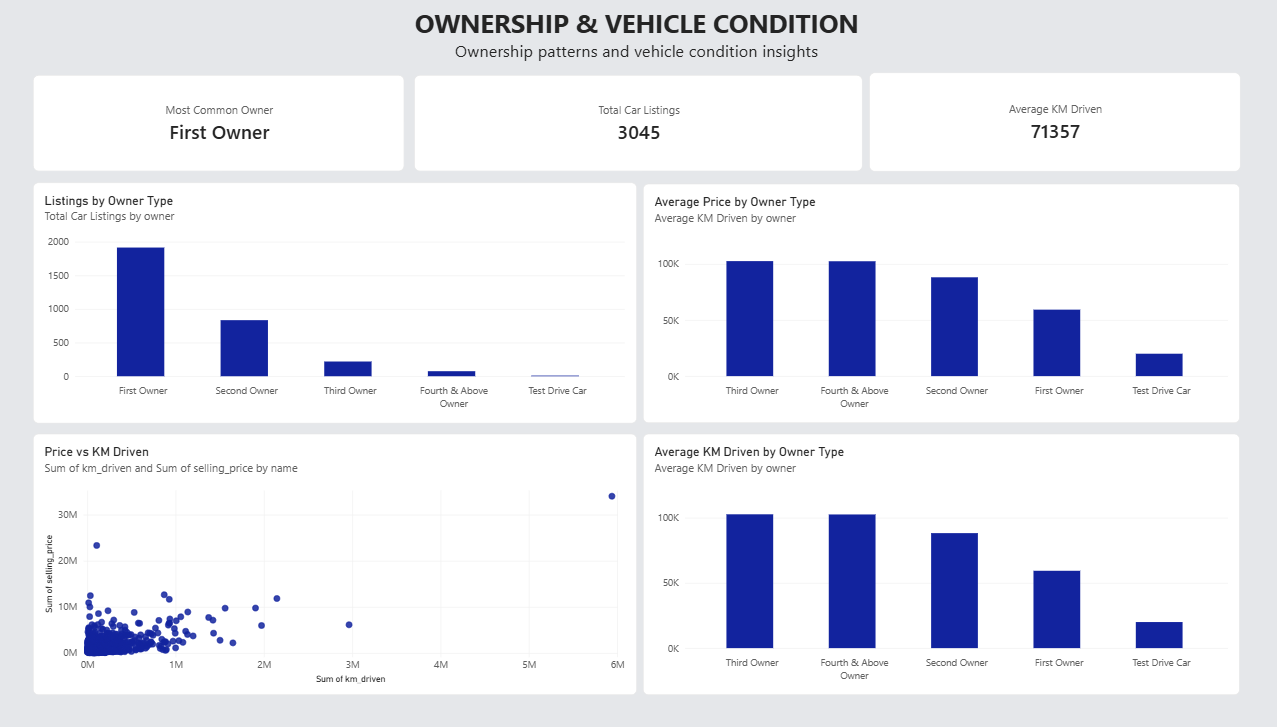

The dashboard page shown, as its layout file describes it:
{"tool":"powerbi","page":{"name":"Ownership & Vehicle Condition Analysis","canvas":[1920,1080],"ordinal":3},"visuals":[{"type":"textbox","box":[80,14,1756,102],"z":0},{"type":"cardVisual","fields":{"Data":["car_sales_db car_sales.Most Common Owner"]},"box":[80,116,540,140],"z":1000},{"type":"cardVisual","fields":{"Data":["car_sales_db car_sales.Total Car Listings"]},"box":[634,116,652,140],"z":2000},{"type":"cardVisual","fields":{"Data":["car_sales_db car_sales.Average KM Driven"]},"box":[1296,112,540,144],"z":3000},{"type":"clusteredColumnChart","title":"Listings by Owner Type","fields":{"Category":["car_sales_db car_sales.owner"],"Y":["car_sales_db car_sales.Total Car Listings"]},"box":[80,272,878,350],"z":4000},{"type":"clusteredColumnChart","title":"Average Price by Owner Type","fields":{"Category":["car_sales_db car_sales.owner"],"Y":["car_sales_db car_sales.Average KM Driven"]},"box":[968,274,868,348],"z":5000},{"type":"scatterChart","title":"Price vs KM Driven","fields":{"Category":["car_sales_db car_sales.name"],"X":["Sum(car_sales_db car_sales.km_driven)"],"Y":["Sum(car_sales_db car_sales.selling_price)"]},"box":[80,638,878,380],"z":6000},{"type":"clusteredColumnChart","title":"Average KM Driven by Owner Type","fields":{"Category":["car_sales_db car_sales.owner"],"Y":["car_sales_db car_sales.Average KM Driven"]},"box":[968,638,868,380],"z":7000}]}

Visuals, with their boxes in screenshot pixels (x1, y1, x2, y2), scaled from the page's 1920x1080 canvas onto the 1277x727 screenshot:
textbox: bbox(53, 9, 1221, 78)
cardVisual - car_sales_db car_sales.Most Common Owner: bbox(53, 78, 412, 172)
cardVisual - car_sales_db car_sales.Total Car Listings: bbox(422, 78, 855, 172)
cardVisual - car_sales_db car_sales.Average KM Driven: bbox(862, 75, 1221, 172)
"Listings by Owner Type" clusteredColumnChart: bbox(53, 183, 637, 419)
"Average Price by Owner Type" clusteredColumnChart: bbox(644, 184, 1221, 419)
"Price vs KM Driven" scatterChart: bbox(53, 429, 637, 685)
"Average KM Driven by Owner Type" clusteredColumnChart: bbox(644, 429, 1221, 685)
